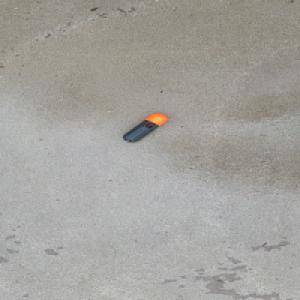PlasticPart: (121, 112, 168, 142)
